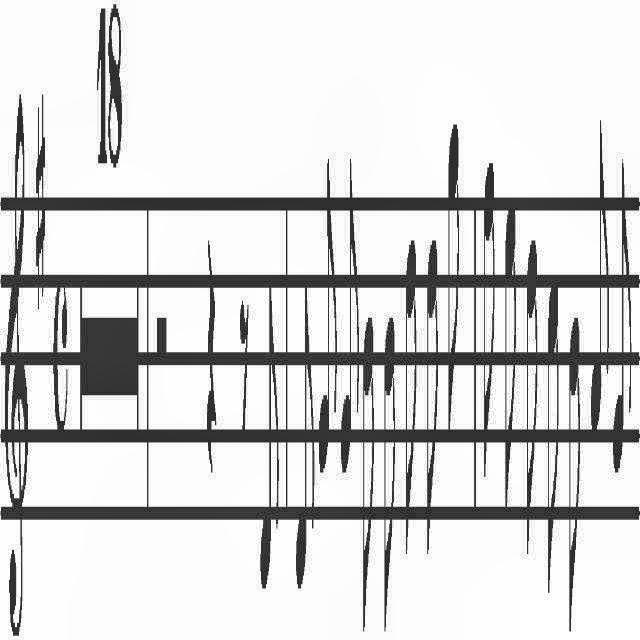Bass-clef: (2, 32, 30, 640)
Diez: (30, 45, 50, 335)
Eighth-note: (294, 250, 318, 640), (257, 272, 283, 624), (610, 131, 634, 497), (317, 141, 339, 535), (443, 56, 463, 472), (339, 130, 361, 506), (544, 236, 564, 634), (588, 89, 610, 444), (524, 176, 542, 590), (479, 142, 497, 542), (379, 300, 398, 640), (403, 200, 421, 556), (424, 201, 441, 577), (502, 180, 518, 568), (361, 296, 379, 640), (568, 272, 584, 640)
Eighth-rest: (233, 236, 250, 512)
Quarter-rest: (198, 193, 218, 562)
